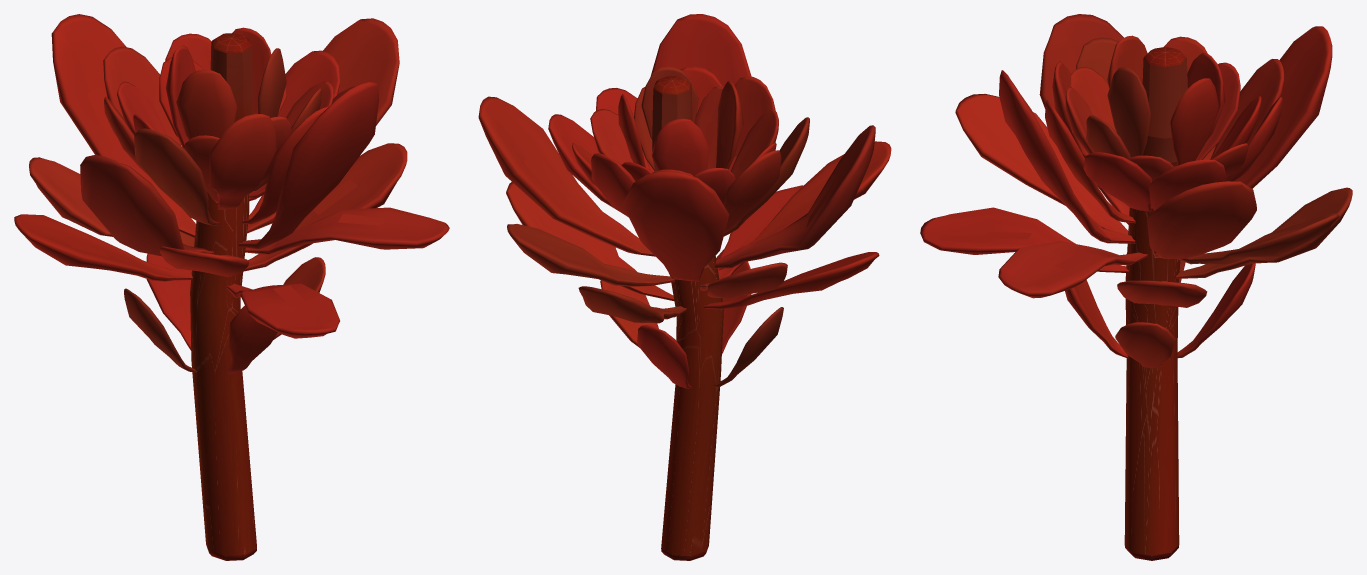
File: ebekeria.fbx
3 views of the same model, side by side, from view 1: azimuth 30°, elevation 25°; view 2: azimuth 150°, elevation 25°; view 3: azimuth 270°, elevation 25° (orthographic). The views are drawn at different scales.
Visible parts, largest first — view 1: polySurface85, polySurface20, polySurface24, polySurface61, polySurface26, polySurface83, polySurface66, polySurface56, polySurface79, polySurface75; view 2: polySurface85, polySurface20, polySurface24, polySurface26, polySurface83, polySurface66, polySurface56, polySurface61, polySurface79, polySurface75; view 3: polySurface85, polySurface20, polySurface26, polySurface24, polySurface83, polySurface61, polySurface66, polySurface56, polySurface79, polySurface75.
Boxes of the visible parts, x1,y1,x2,y2 form: polySurface85: [51, 14, 399, 256]; polySurface20: [190, 33, 256, 560]; polySurface24: [14, 143, 407, 338]; polySurface61: [103, 46, 339, 225]; polySurface26: [29, 157, 449, 276]; polySurface83: [166, 27, 286, 147]; polySurface66: [104, 33, 355, 209]; polySurface56: [124, 253, 325, 373]; polySurface79: [117, 81, 322, 202]; polySurface75: [133, 57, 333, 194]; polySurface85: [478, 14, 875, 281]; polySurface20: [652, 75, 723, 560]; polySurface24: [506, 182, 879, 323]; polySurface26: [507, 141, 891, 298]; polySurface83: [618, 66, 743, 175]; polySurface66: [591, 76, 781, 232]; polySurface56: [600, 249, 783, 388]; polySurface61: [548, 66, 809, 236]; polySurface79: [572, 86, 778, 204]; polySurface75: [590, 86, 776, 181]; polySurface85: [999, 14, 1332, 259]; polySurface20: [1124, 47, 1187, 560]; polySurface26: [955, 94, 1339, 298]; polySurface24: [920, 187, 1352, 307]; polySurface83: [1107, 35, 1225, 165]; polySurface61: [1045, 37, 1284, 223]; polySurface66: [1052, 36, 1282, 211]; polySurface56: [1065, 260, 1255, 368]; polySurface79: [1070, 62, 1248, 177]; polySurface75: [1065, 87, 1261, 181].
Bounding box in the file's own units: 14.77 × 18.31 × 14.21.
